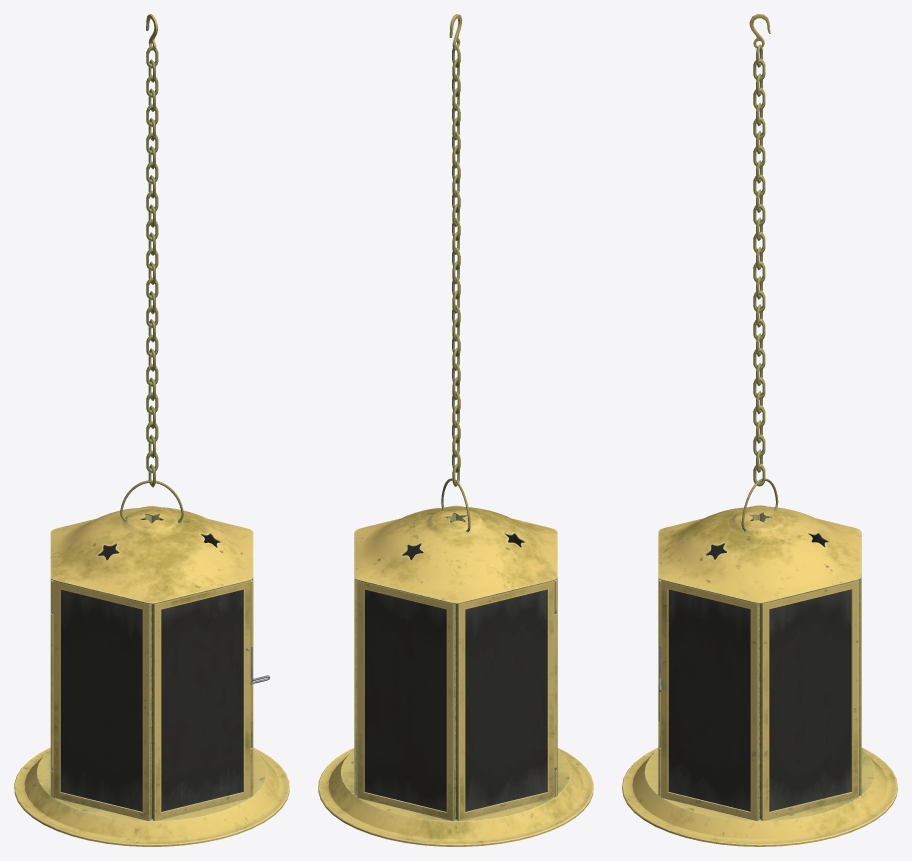
The model's file is brass_diya_lantern.glb.
3 renders of one model, left to right at view 1: azimuth 30°, elevation 25°; view 2: azimuth 150°, elevation 25°; view 3: azimuth 270°, elevation 25°, orthographic.
Visible parts, largest first — view 1: brass_diya_lantern, brass_diya_lantern_connection; view 2: brass_diya_lantern, brass_diya_lantern_connection; view 3: brass_diya_lantern, brass_diya_lantern_connection.
Part boxes in pixels (x1,y1,x2,y2): brass_diya_lantern: (14,505,289,846); brass_diya_lantern_connection: (120,14,183,522); brass_diya_lantern: (318,505,593,846); brass_diya_lantern_connection: (441,14,470,532); brass_diya_lantern: (622,505,897,846); brass_diya_lantern_connection: (741,14,778,531).
Bounding box in the file's own units: 0.123 × 0.3808 × 0.123.
Materials: 3 (3 with a texture image).
